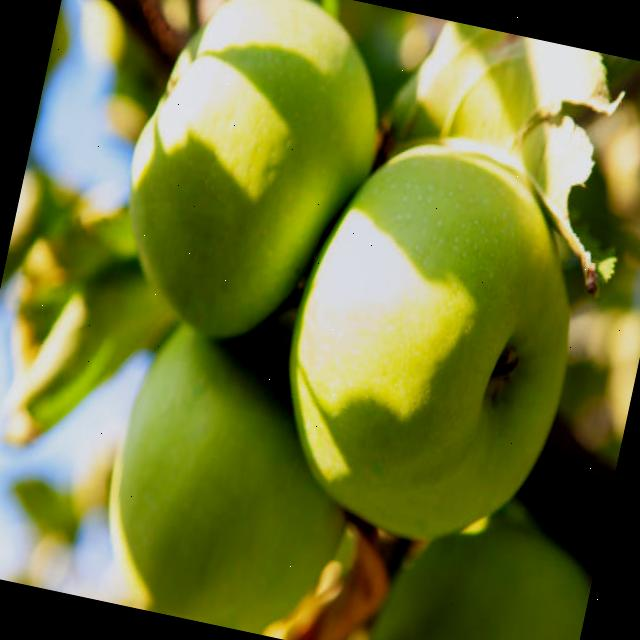Unripe: (254, 113, 611, 562)
